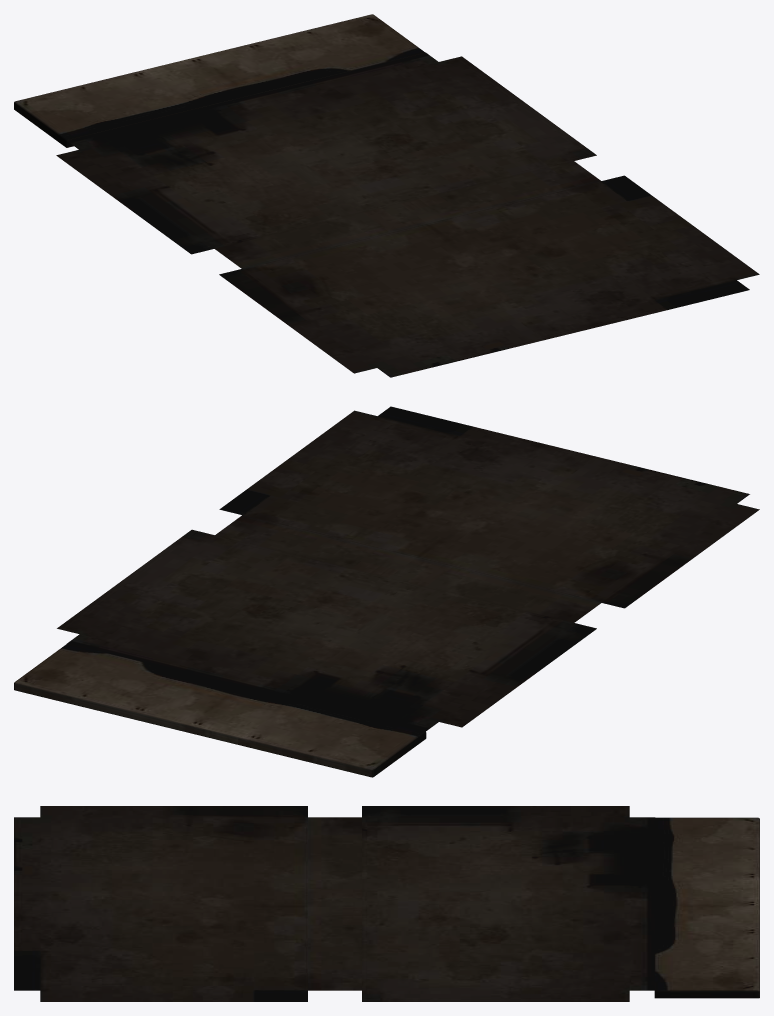
File: room-floor.glb
3 renders of one model, top to bottom at view 1: azimuth 30°, elevation 25°; view 2: azimuth 150°, elevation 25°; view 3: azimuth 270°, elevation 25°, orthographic.
Parts seen in each view (by area): view 1: room1.002; view 2: room1.002; view 3: room1.002.
Part boxes in pixels (box(x1,y1,x2,y2)): room1.002: box(14, 14, 759, 377); room1.002: box(14, 406, 759, 777); room1.002: box(14, 806, 759, 1001).
Bounding box in the file's own units: 7.67 × 0.1426 × 12.35.
1 material, 1 textured.
